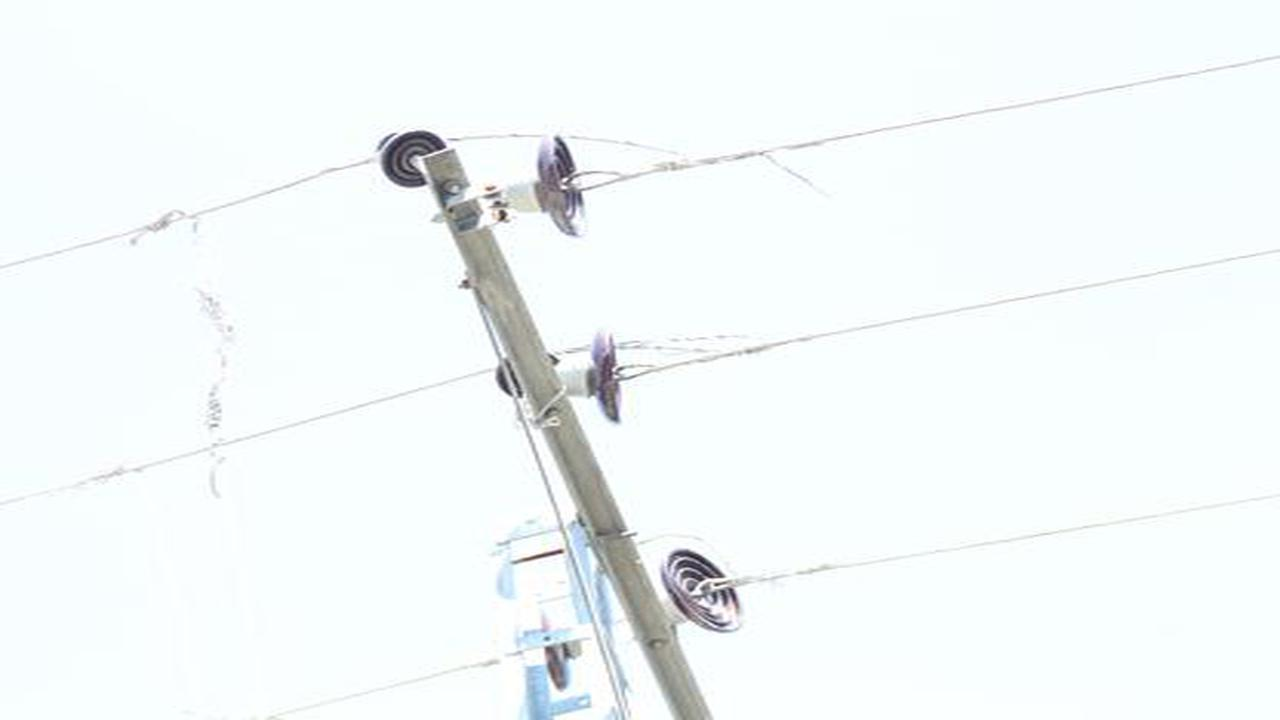insulator_disc: (659, 545, 751, 644), (511, 132, 589, 236), (553, 332, 633, 423)
insulator_pin: (370, 123, 442, 185)
